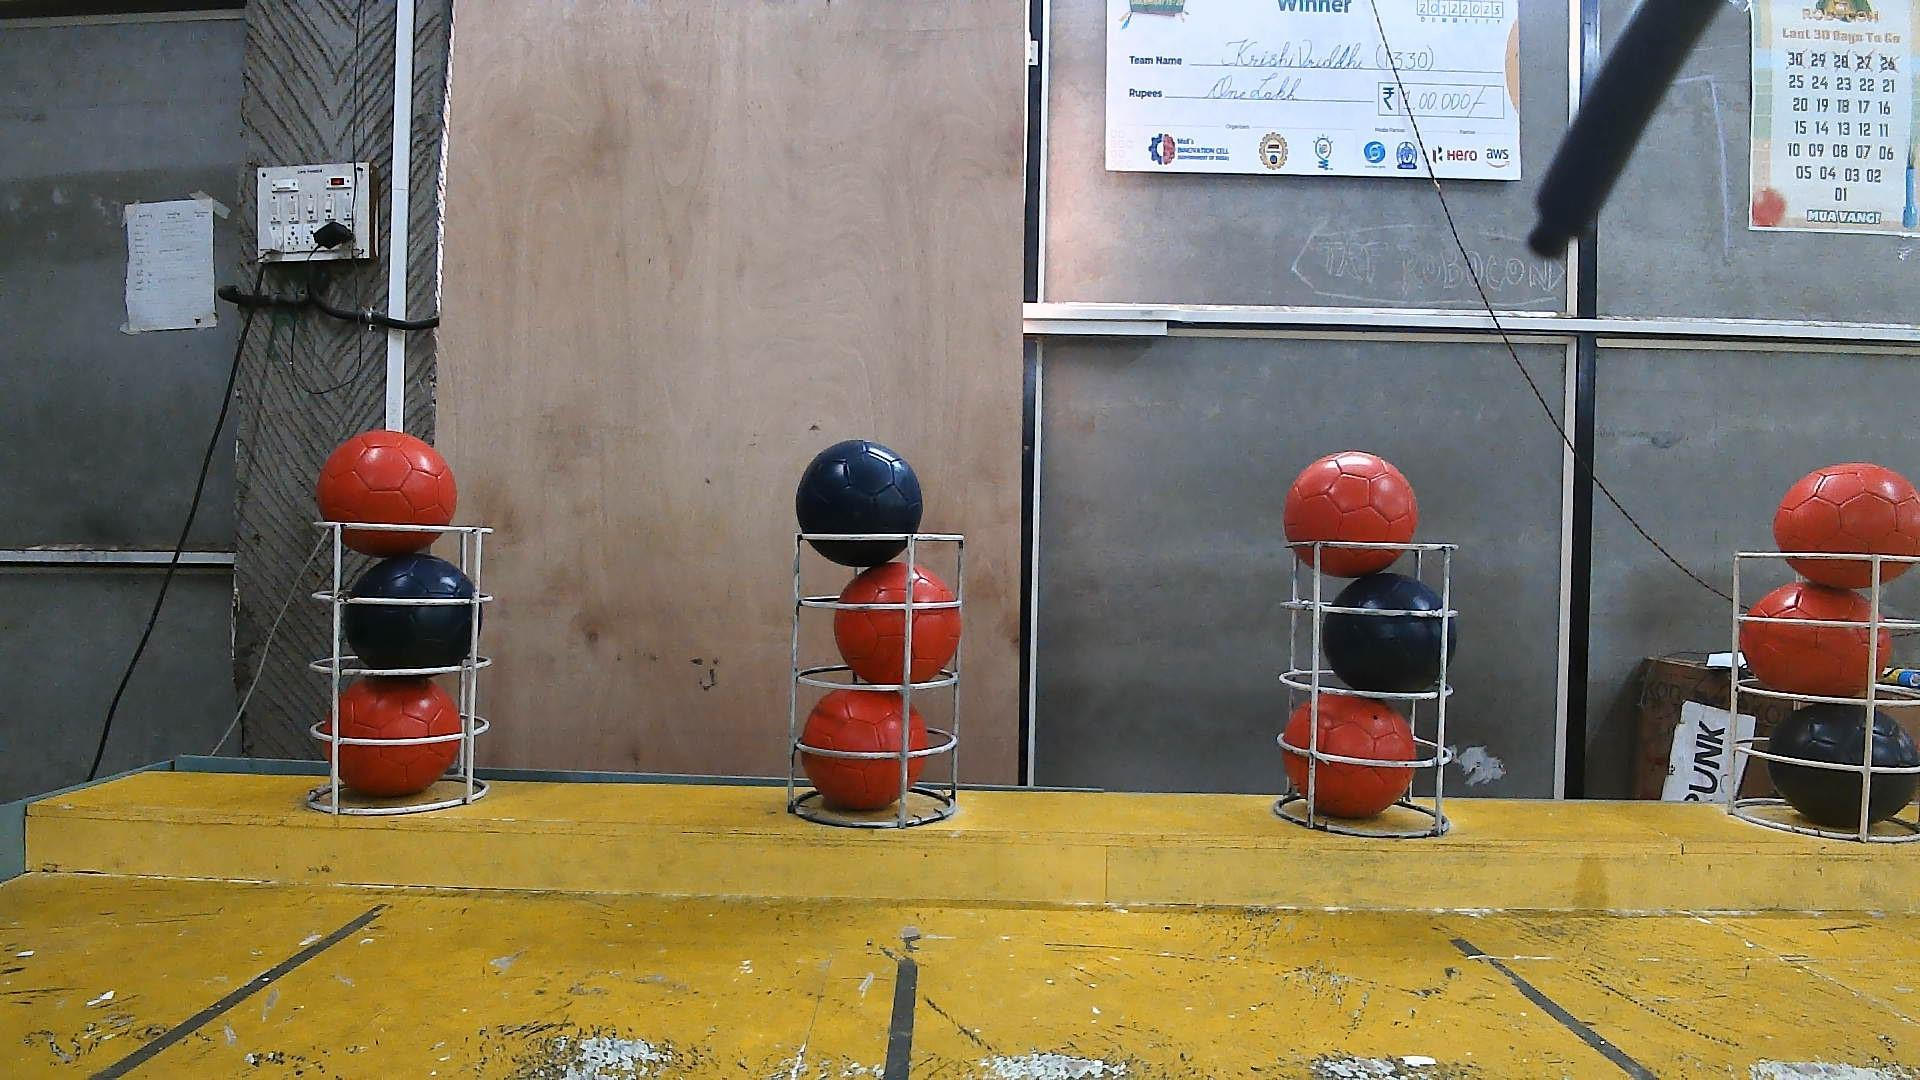dhoka: (1770, 702, 1920, 828), (1320, 570, 1458, 694), (345, 551, 484, 671), (795, 439, 923, 566)
laale: (1774, 462, 1920, 588), (315, 427, 458, 555), (319, 675, 462, 799), (1741, 582, 1890, 698), (1283, 450, 1418, 578), (1283, 694, 1418, 818), (832, 563, 964, 686), (799, 690, 930, 810)
